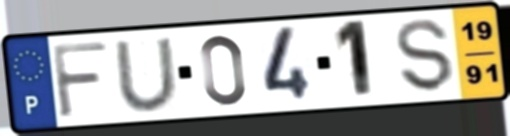0: (199, 32, 248, 108)
1: (332, 17, 377, 103)
4: (260, 24, 320, 107)
F: (48, 40, 111, 121)
S: (393, 17, 457, 95)
U: (111, 35, 183, 114)
